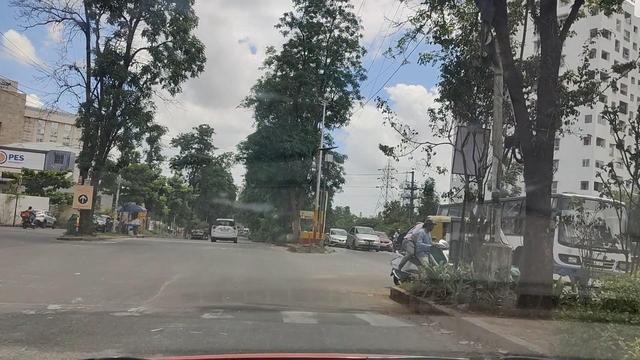RoadDamages: (145, 269, 185, 301)
SpeedBump: (1, 310, 465, 352)
